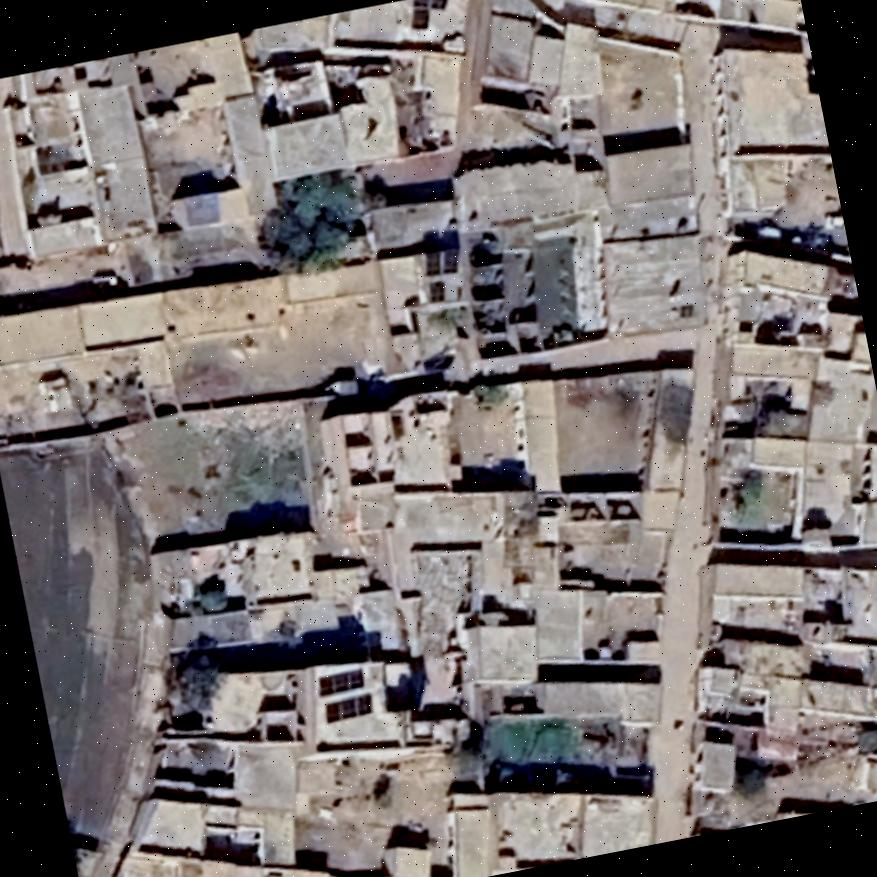Solarpanel: (316, 686, 378, 726), (414, 238, 466, 282), (310, 660, 368, 698), (399, 0, 457, 36), (421, 274, 450, 306)
